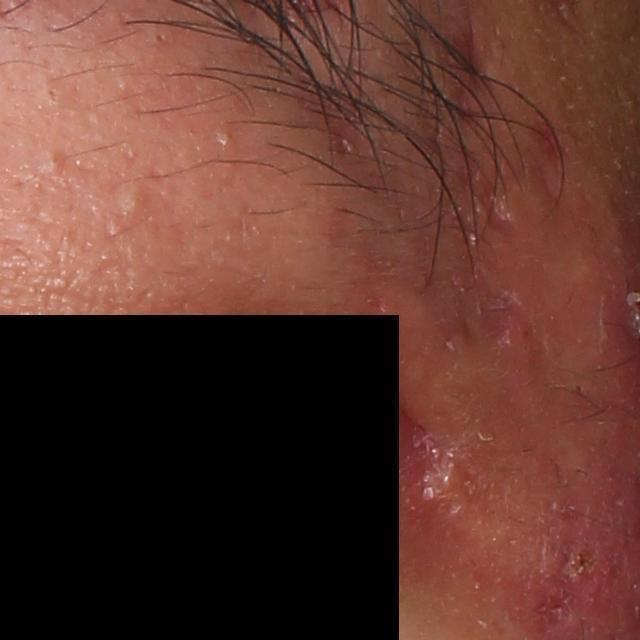comedo: (114, 181, 154, 222), (41, 144, 75, 181), (211, 124, 239, 156)
